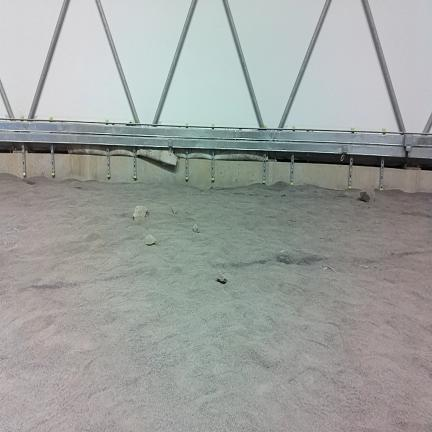Rock: (133, 206, 149, 221), (360, 188, 376, 202), (216, 272, 227, 284), (367, 187, 375, 201), (360, 191, 370, 202), (146, 235, 155, 245), (193, 224, 199, 232), (172, 207, 177, 214)
